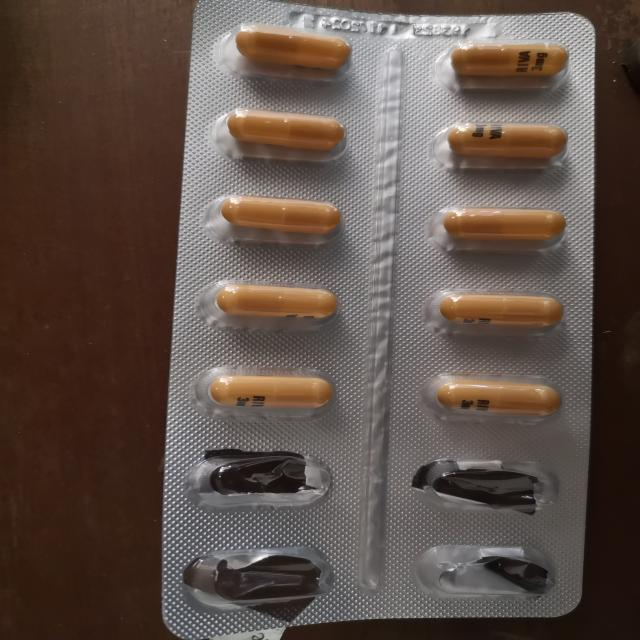Empty: (393, 445, 568, 526), (170, 542, 353, 619), (176, 444, 344, 524), (394, 534, 564, 606)
Pill: (398, 363, 576, 431), (413, 192, 587, 260), (411, 111, 587, 176), (415, 274, 576, 344), (208, 99, 370, 166), (200, 184, 363, 250), (417, 31, 587, 94), (215, 21, 374, 85), (189, 358, 344, 423), (198, 268, 353, 330)
